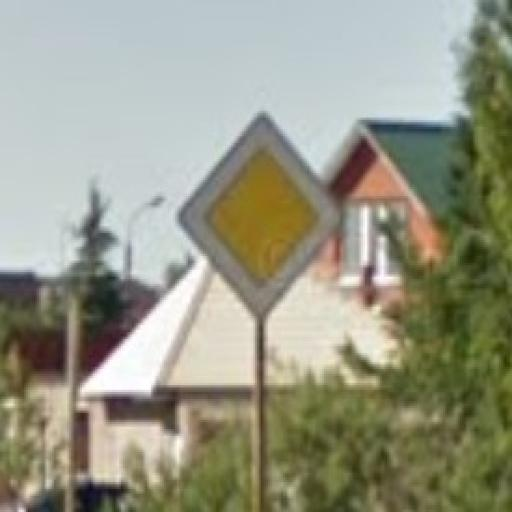traffic_sign: (180, 112, 344, 319)
